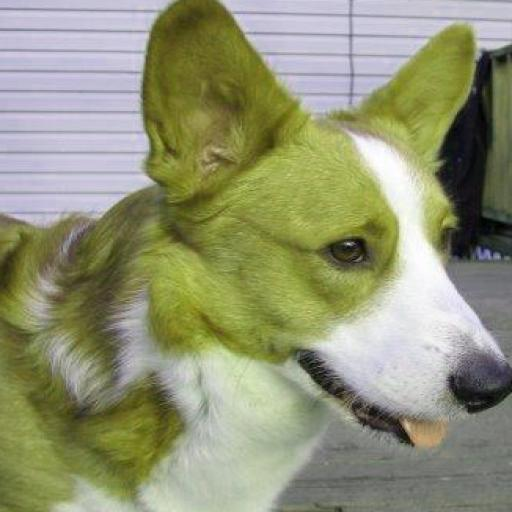dog_face: (135, 0, 512, 437)
